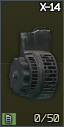M14 7.62x51 X-14 50-round drum magazine: (0, 0, 64, 127)
